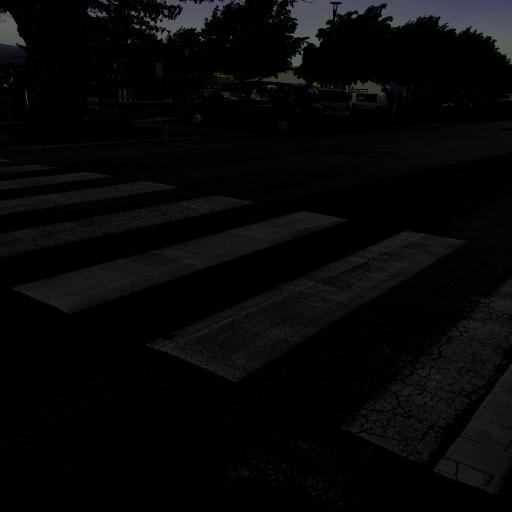crosswalk: (1, 206, 480, 397)
